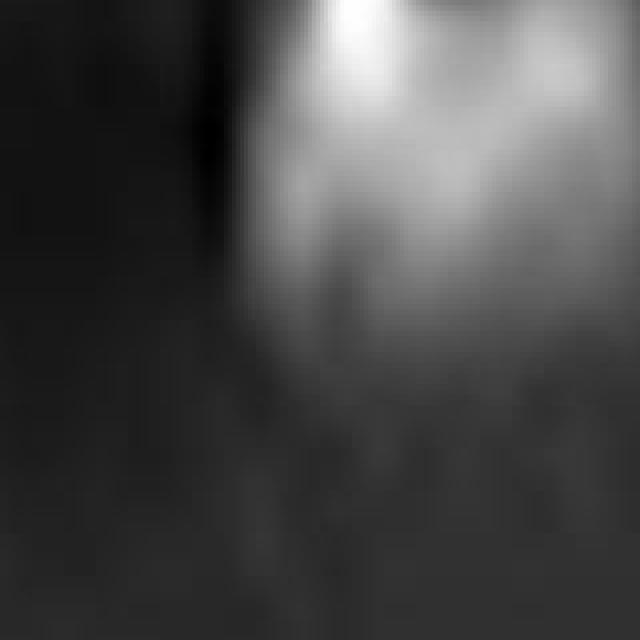person: (225, 1, 457, 390), (433, 1, 640, 385)
